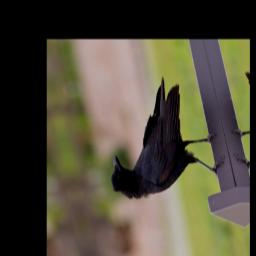Crow: (90, 70, 228, 205)
